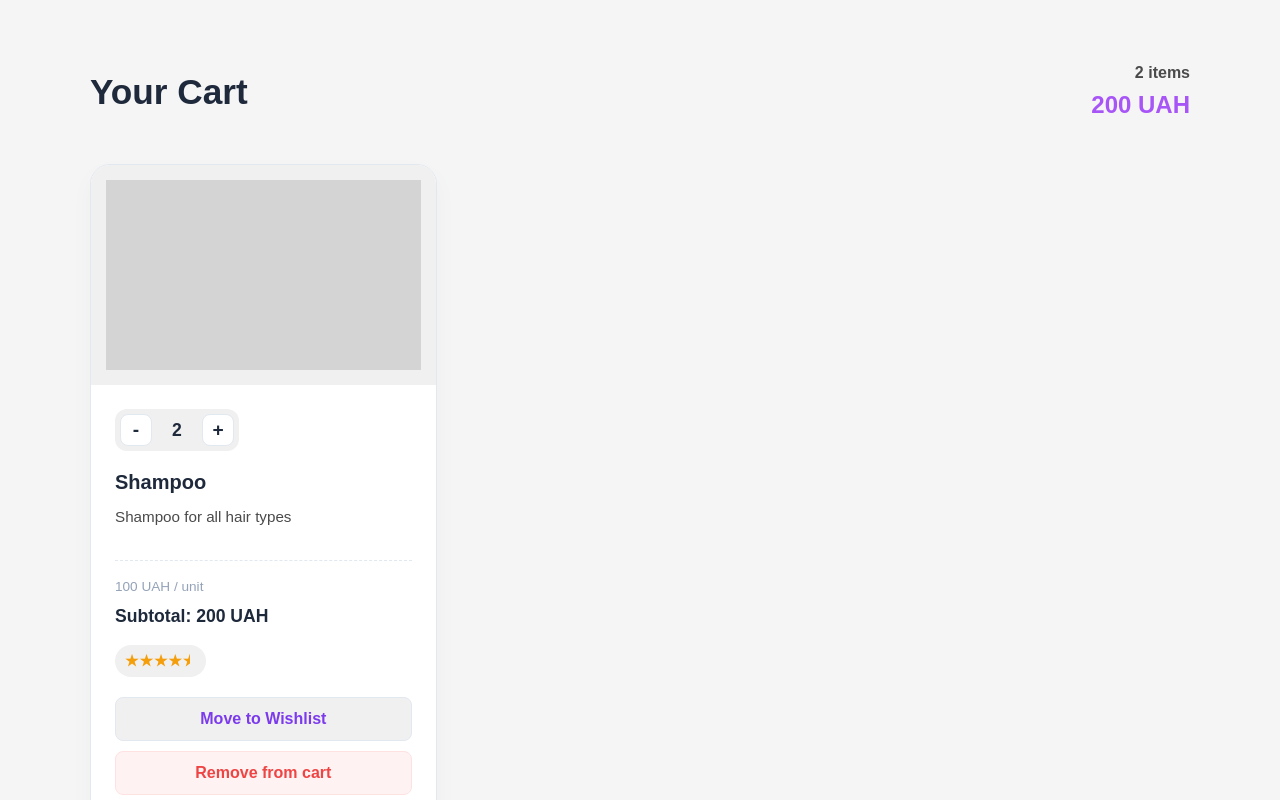
Scenario: Cart › decrements quantity when above 1
Click the button "-": (136, 430) top-left (120, 414), bottom-right (152, 446)
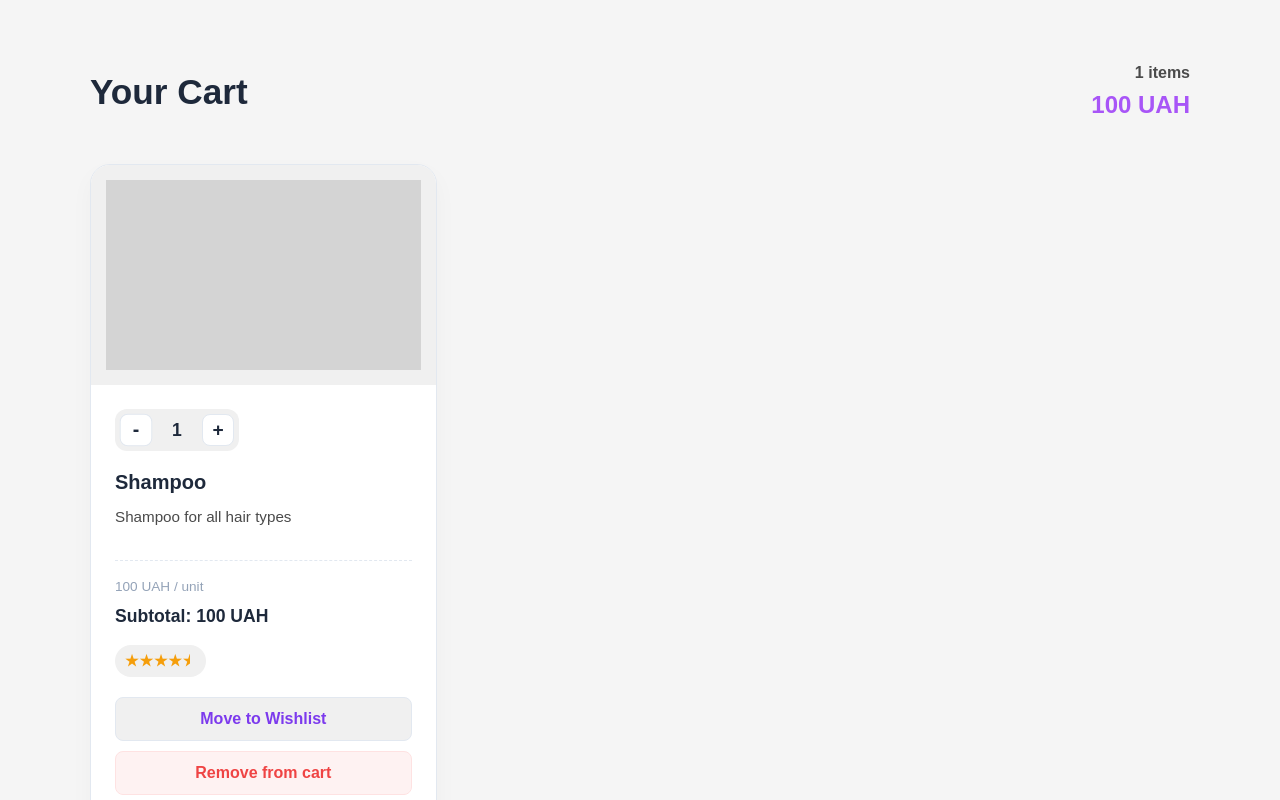
Now the text "1" is shown, box top-left (172, 420), bottom-right (182, 440)
